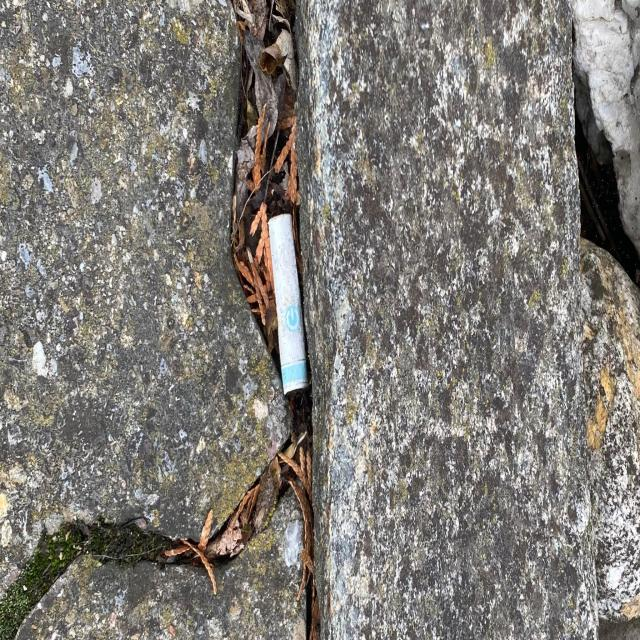other waste: (266, 210, 310, 400)
